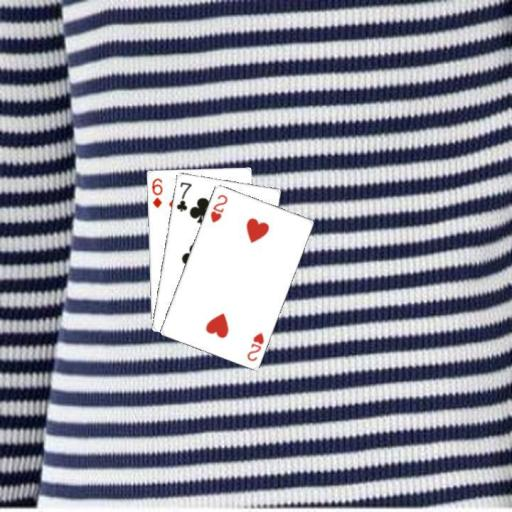2H: (243, 329, 265, 363), (207, 191, 229, 224)
6D: (149, 175, 164, 209)
7C: (174, 179, 193, 213)
